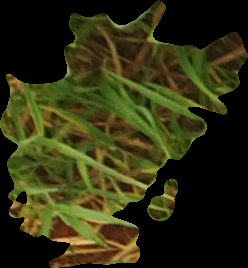grass: (1, 1, 247, 267)
